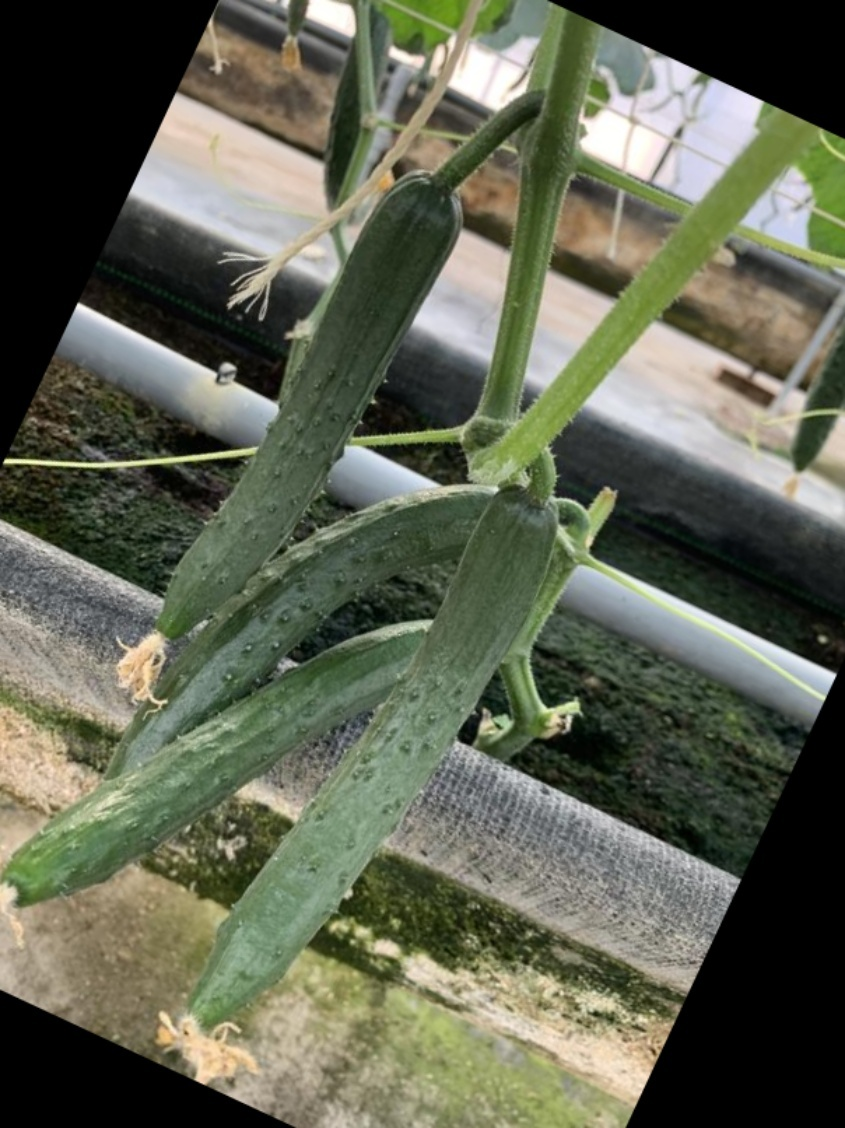mature: (154, 483, 551, 1021), (0, 589, 508, 896), (140, 165, 461, 641)
